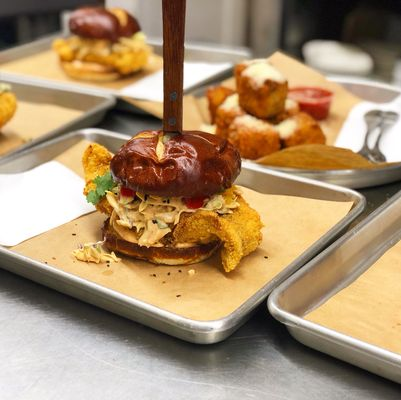soup: (79, 129, 262, 269)
